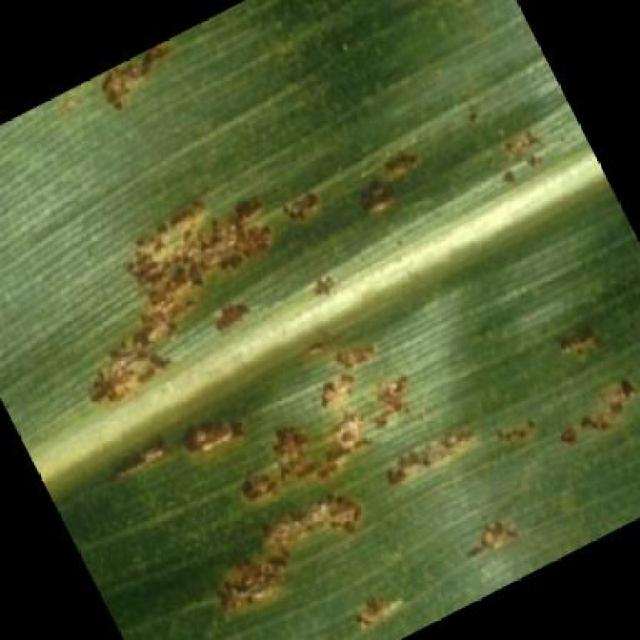Corn_Rust: (102, 80, 549, 571)
